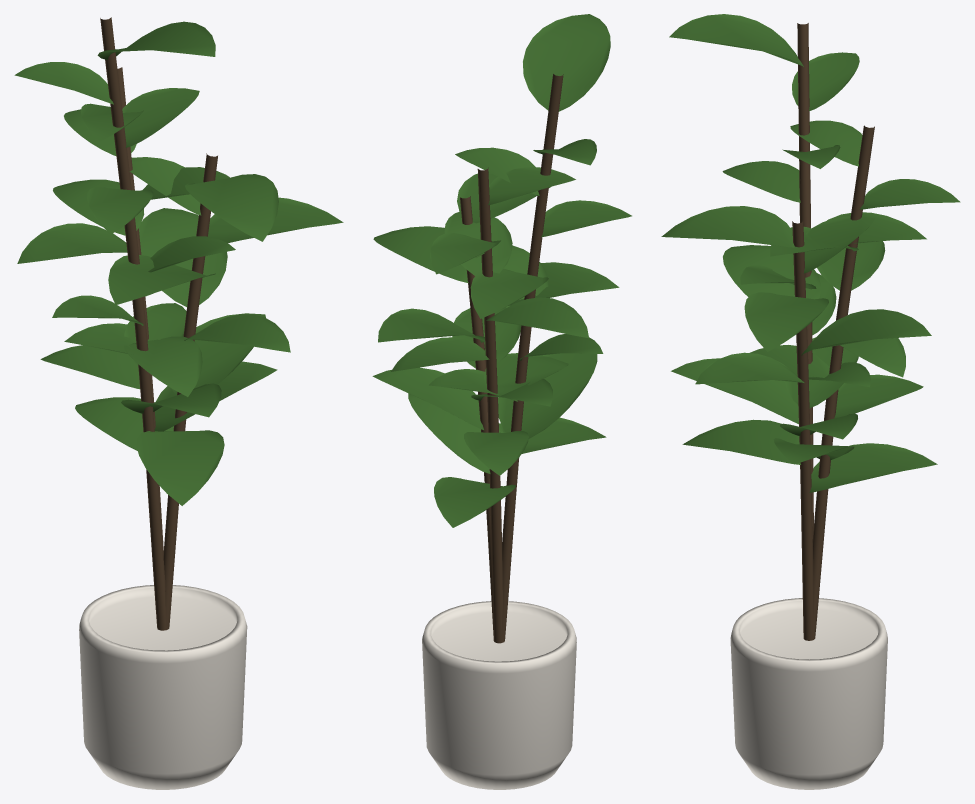
File: decor-plant.glb
3 renders of one model, left to right at view 1: azimuth 30°, elevation 25°; view 2: azimuth 150°, elevation 25°; view 3: azimuth 270°, elevation 25°, orthographic. The views are drawn at different scales.
Bounding box in the file's own units: 0.6581 × 1.71 × 0.6465.
